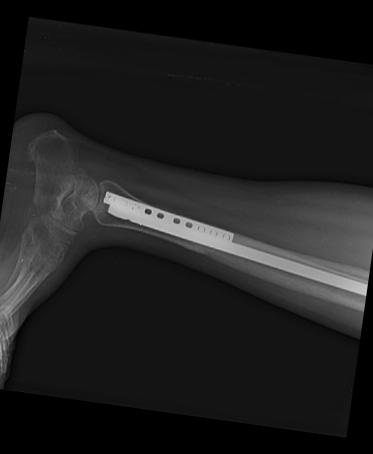fractured: (140, 224, 216, 259)
